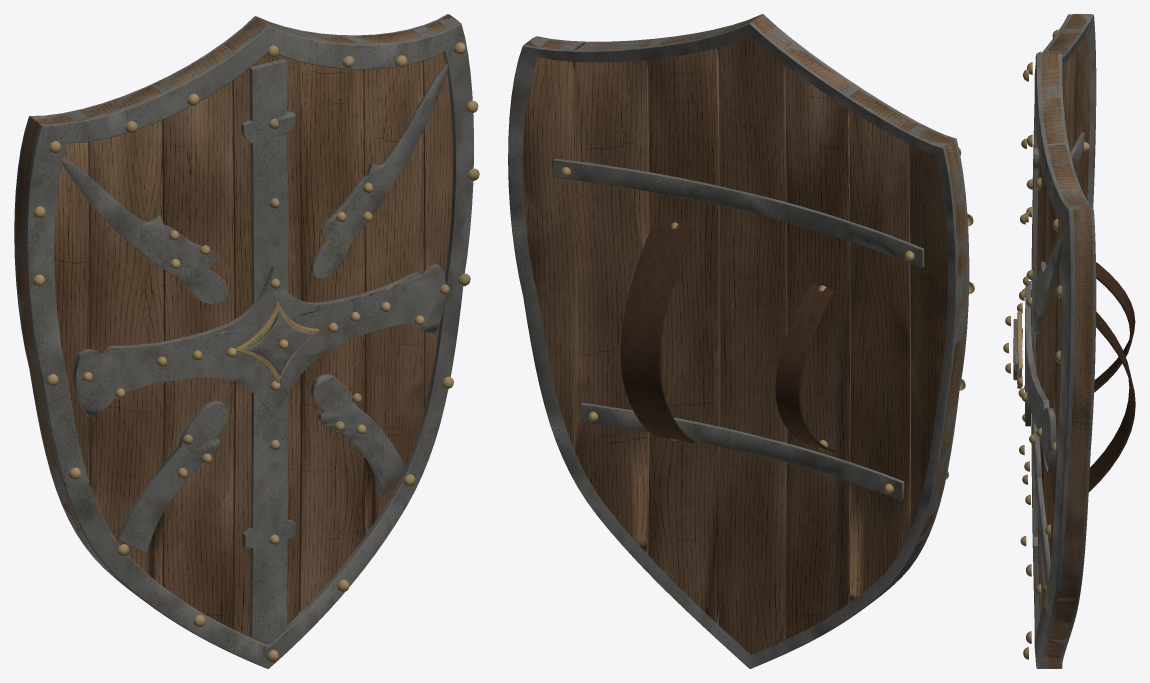
Rendered from escudo_medieval.glb.
3 renders of one model, left to right at view 1: azimuth 30°, elevation 25°; view 2: azimuth 150°, elevation 25°; view 3: azimuth 270°, elevation 25°, orthographic. The views are drawn at different scales.
Visible parts, largest first — view 1: 01_Madera_Roble, 02_Acero_Forjado, 03_Bronce_Remaches; view 2: 01_Madera_Roble, 02_Acero_Forjado, 04_Cuero_Agarres, 03_Bronce_Remaches; view 3: 02_Acero_Forjado, 01_Madera_Roble, 04_Cuero_Agarres, 03_Bronce_Remaches.
Part boxes in pixels (box(x1,y1,x2,y2)): 01_Madera_Roble: box(15, 14, 459, 644); 02_Acero_Forjado: box(14, 14, 473, 668); 03_Bronce_Remaches: box(33, 42, 479, 662); 01_Madera_Roble: box(523, 15, 966, 654); 02_Acero_Forjado: box(508, 14, 969, 668); 04_Cuero_Agarres: box(620, 220, 835, 451); 03_Bronce_Remaches: box(561, 147, 974, 493); 02_Acero_Forjado: box(1013, 14, 1096, 668); 01_Madera_Roble: box(1036, 14, 1093, 668); 04_Cuero_Agarres: box(1088, 262, 1135, 492); 03_Bronce_Remaches: box(1003, 29, 1089, 659).
Size of the model in its own units: 0.7732 by 1.06 by 0.2076.
4 materials, 4 textured.
